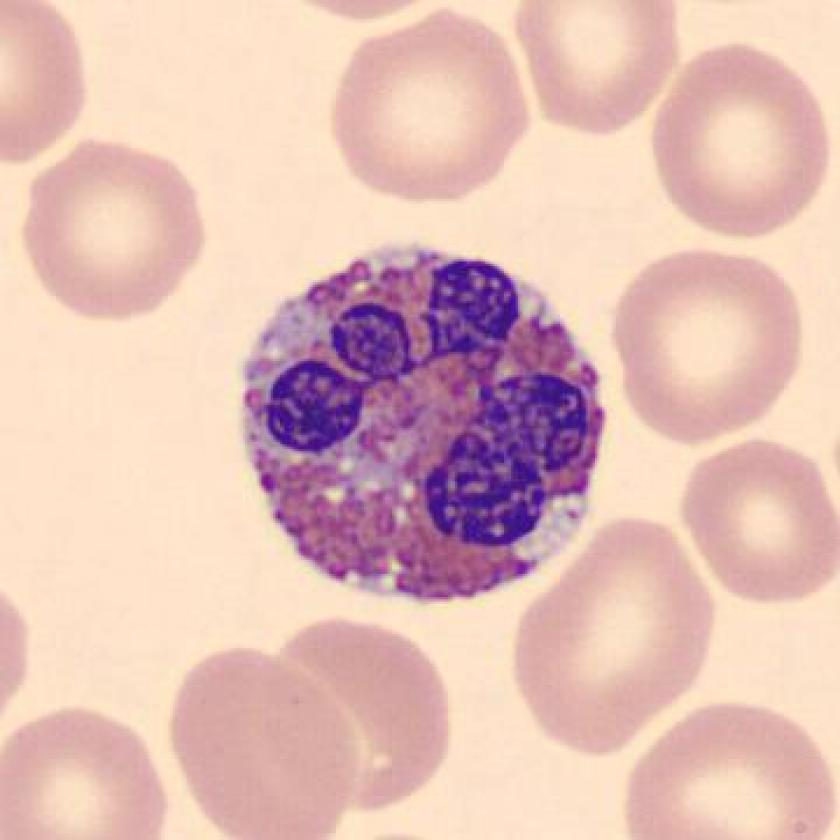eosinophil: (232, 230, 612, 612)
